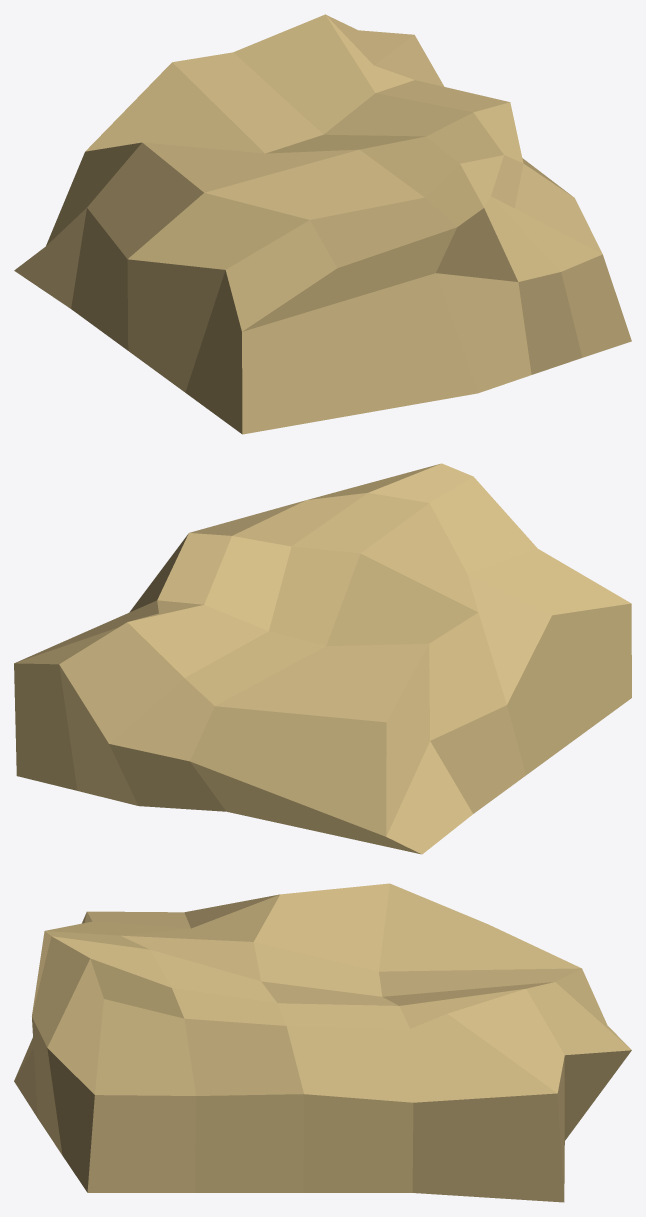
Rendered from Rock2.fbx.
The picture shows the model from 3 angles, top to bottom: view 1: azimuth 30°, elevation 25°; view 2: azimuth 150°, elevation 25°; view 3: azimuth 270°, elevation 25°; orthographic projection. The views are drawn at different scales.
Visible parts, largest first — view 1: Cube; view 2: Cube; view 3: Cube.
Boxes of the visible parts, box(x1,y1,x2,y2) form: Cube: box(14, 14, 631, 434); Cube: box(14, 463, 631, 854); Cube: box(14, 883, 631, 1202).
Size of the model in its own units: 213 by 90.83 by 284.
